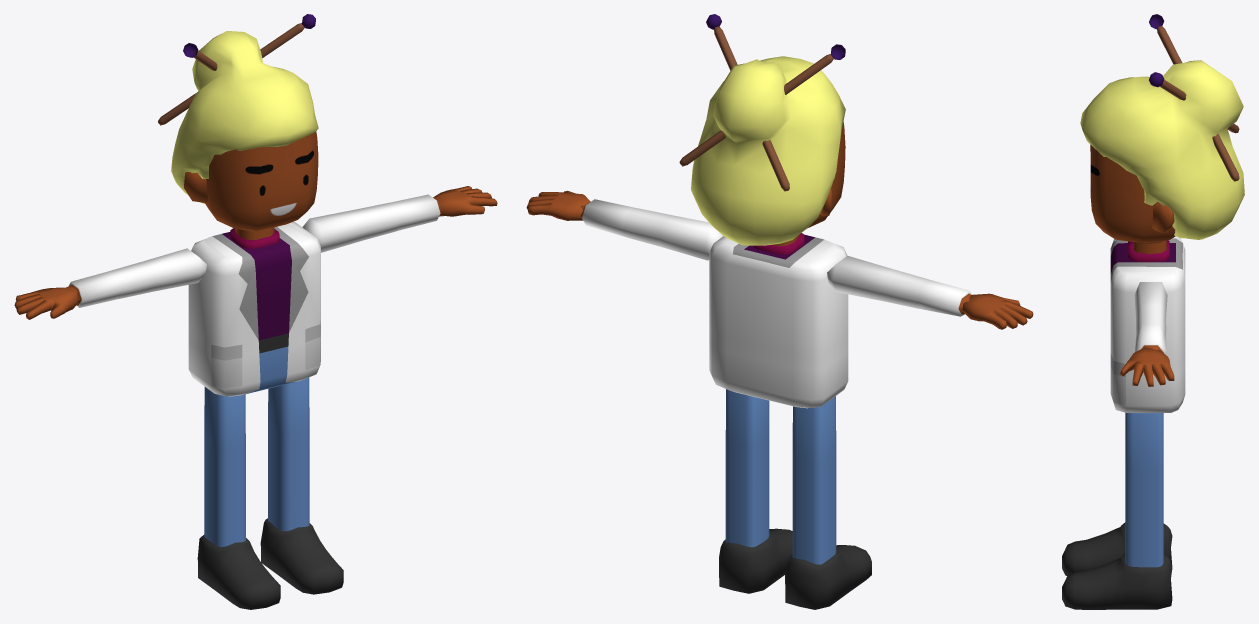
File: NPC_Yellow01_BlondeHair03.gltf
The picture shows the model from 3 angles, left to right: view 1: azimuth 30°, elevation 25°; view 2: azimuth 150°, elevation 25°; view 3: azimuth 270°, elevation 25°; orthographic projection. The views are drawn at different scales.
Visible parts, largest first — view 1: NPC_Corpo_Yellow1_BlondeHair.003; view 2: NPC_Corpo_Yellow1_BlondeHair.003; view 3: NPC_Corpo_Yellow1_BlondeHair.003.
Part boxes in pixels (bbox=[...]): NPC_Corpo_Yellow1_BlondeHair.003: bbox=[14, 14, 497, 609]; NPC_Corpo_Yellow1_BlondeHair.003: bbox=[526, 14, 1033, 609]; NPC_Corpo_Yellow1_BlondeHair.003: bbox=[1062, 14, 1244, 609].
Bounding box in the file's own units: 2.31 × 2.5 × 0.7676.
Materials: 1 (1 with a texture image).
